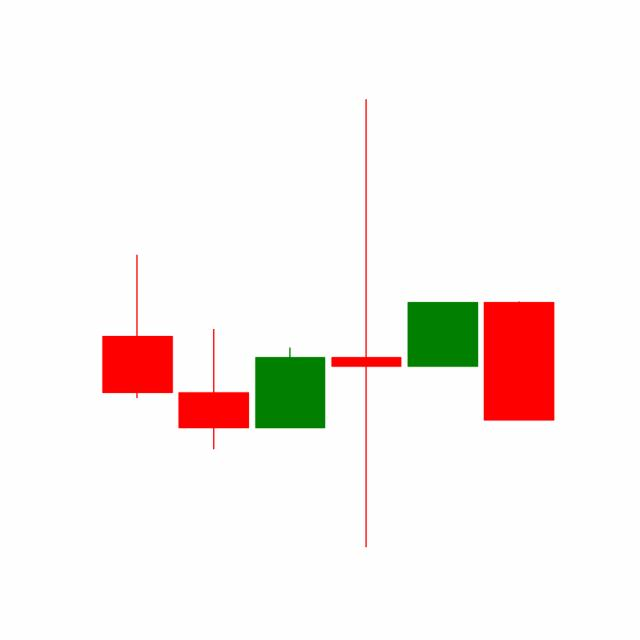Marubozu: (403, 301, 481, 367)
